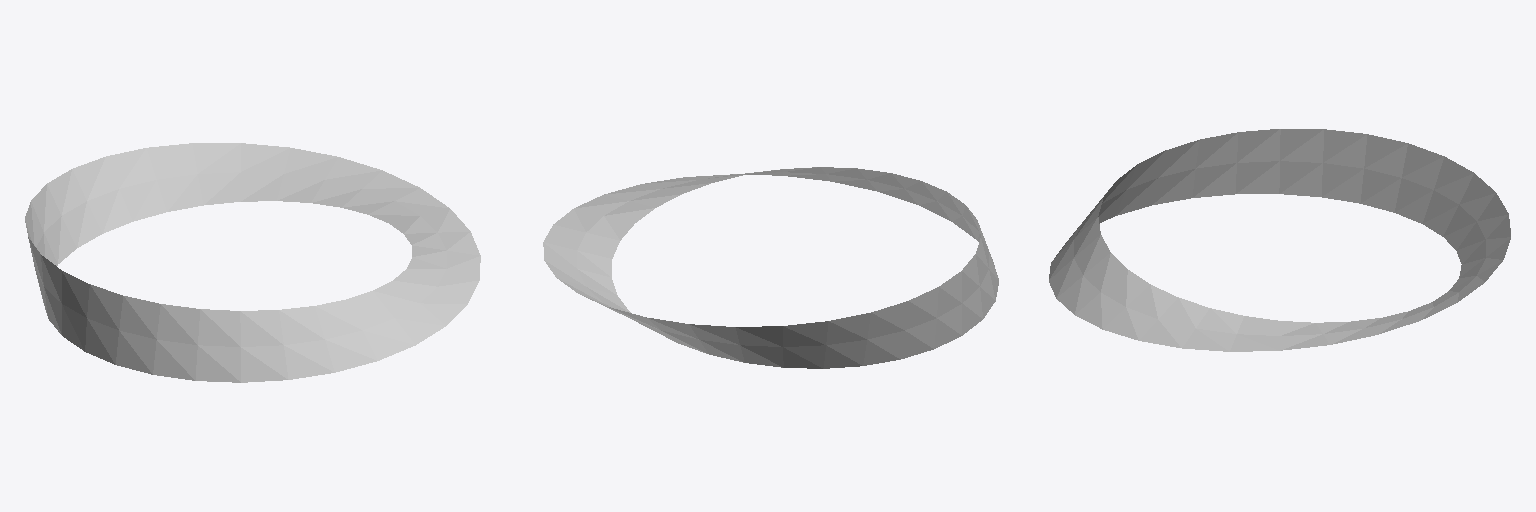
Rendered from mobius.obj.
3 renders of one model, left to right at view 1: azimuth 30°, elevation 25°; view 2: azimuth 150°, elevation 25°; view 3: azimuth 270°, elevation 25°, orthographic.
Visible parts, largest first — view 1: XYZ_Function; view 2: XYZ_Function; view 3: XYZ_Function.
Boxes of the visible parts, x1=… form: XYZ_Function: x1=25, y1=143, x2=480, y2=382; XYZ_Function: x1=543, y1=167, x2=998, y2=368; XYZ_Function: x1=1049, y1=129, x2=1510, y2=351.
Bounding box in the file's own units: 4.29 × 0.6914 × 4.42.